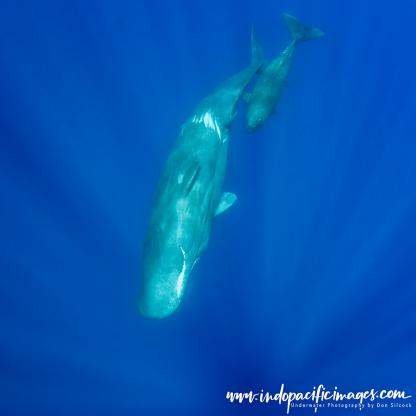sperm_whale: (115, 41, 261, 336), (252, 23, 332, 141)
